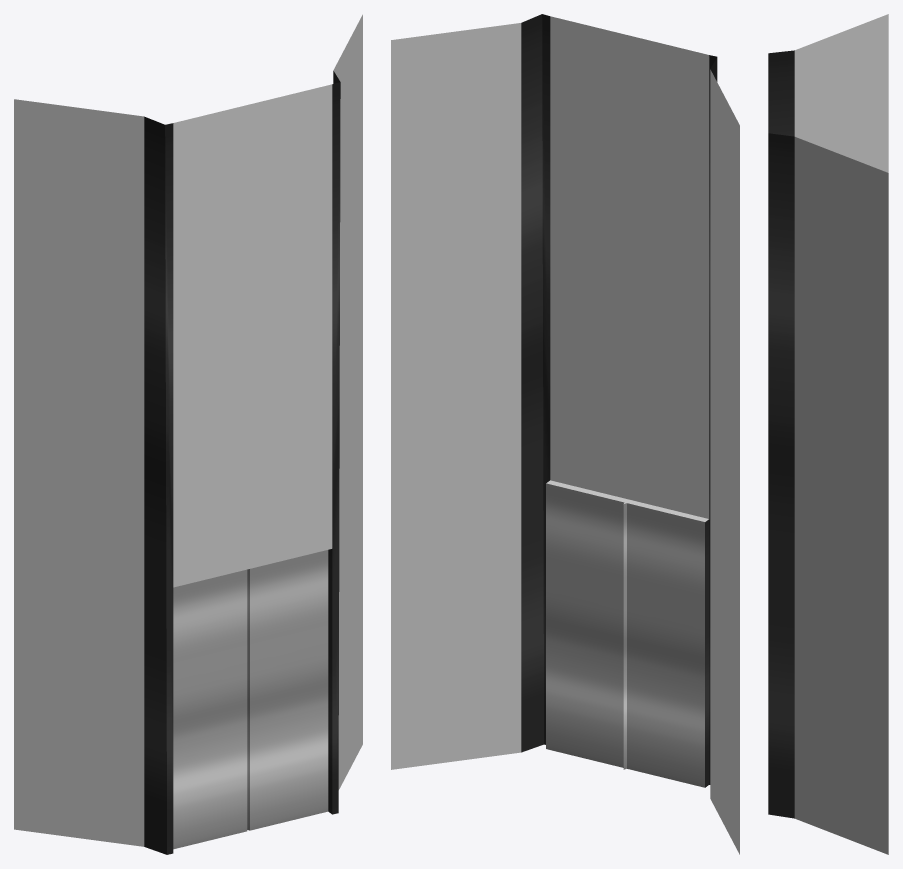
File: Lift_001.fbx
3 views of the same model, side by side, from view 1: azimuth 30°, elevation 25°; view 2: azimuth 150°, elevation 25°; view 3: azimuth 270°, elevation 25° (orthographic). The views are drawn at different scales.
Visible parts, largest first — view 1: Lift_001; view 2: Lift_001; view 3: Lift_001.
Part boxes in pixels (<box>): Lift_001: <box>14,14,362,854</box>; Lift_001: <box>391,14,739,854</box>; Lift_001: <box>768,14,888,854</box>.
Size of the model in its own units: 400 by 800 by 128.
